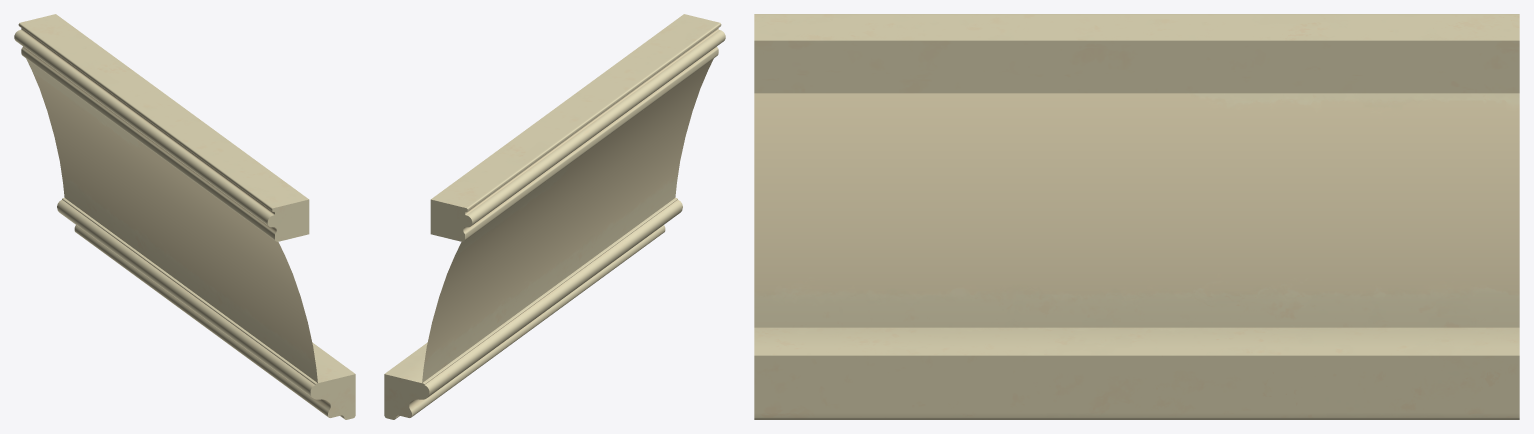
The model's file is SM_Ceiling_01.fbx.
The picture shows the model from 3 angles, left to right: view 1: azimuth 30°, elevation 25°; view 2: azimuth 150°, elevation 25°; view 3: azimuth 270°, elevation 25°; orthographic projection. The views are drawn at different scales.
Parts seen in each view (by area): view 1: SM_Ceiling_01; view 2: SM_Ceiling_01; view 3: SM_Ceiling_01.
Part boxes in pixels (x1,y1,x2,y2): SM_Ceiling_01: [14, 14, 355, 419]; SM_Ceiling_01: [384, 14, 725, 419]; SM_Ceiling_01: [754, 14, 1519, 419].
Bounding box in the file's own units: 15.04 × 75.01 × 37.49.
Materials: 1 (1 with a texture image).
